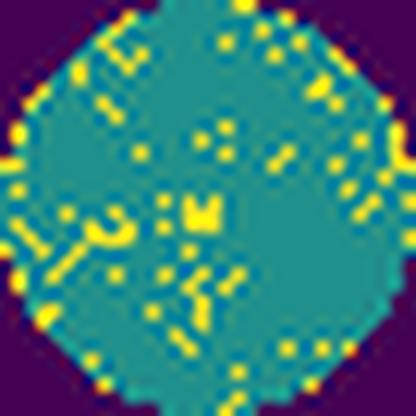Center: (178, 191, 226, 238)
